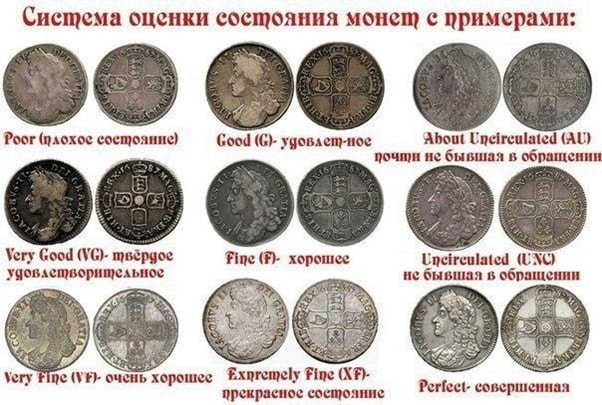coin: (502, 42, 598, 133), (93, 158, 185, 247), (413, 42, 502, 133), (200, 276, 291, 365), (205, 42, 295, 131), (296, 42, 386, 131), (205, 159, 295, 248), (4, 158, 93, 247), (296, 158, 384, 247), (411, 284, 499, 372), (498, 165, 588, 251), (502, 285, 590, 372), (293, 277, 379, 365), (406, 166, 493, 251), (5, 287, 91, 372), (91, 288, 178, 372), (3, 43, 89, 127), (93, 44, 178, 126)
